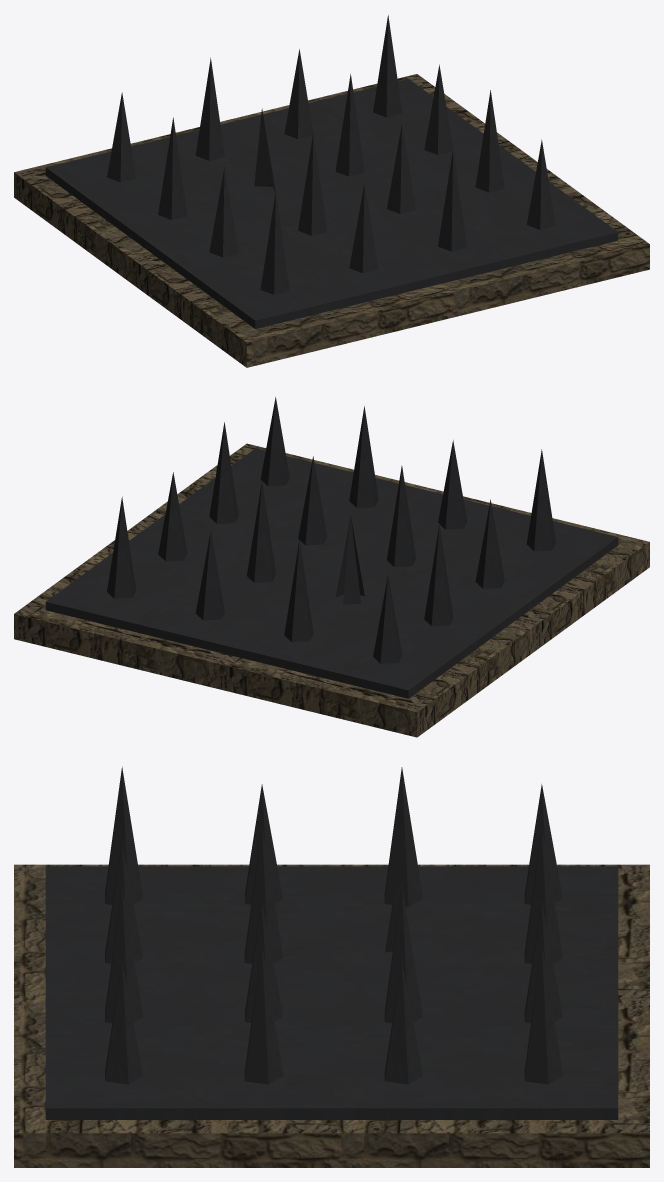
Rendered from spike_trap_01.glb.
3 views of the same model, one above another, from view 1: azimuth 30°, elevation 25°; view 2: azimuth 150°, elevation 25°; view 3: azimuth 270°, elevation 25° (orthographic). The views are drawn at different scales.
Visible parts, largest first — view 1: spike_trap_01; view 2: spike_trap_01; view 3: spike_trap_01.
Boxes of the visible parts, x1,y1,x2,y2 form: spike_trap_01: (14, 15, 649, 367); spike_trap_01: (14, 397, 649, 737); spike_trap_01: (14, 766, 649, 1167).
Size of the model in its own units: 2 by 0.62 by 2.
Materials: 2 (2 with a texture image).
